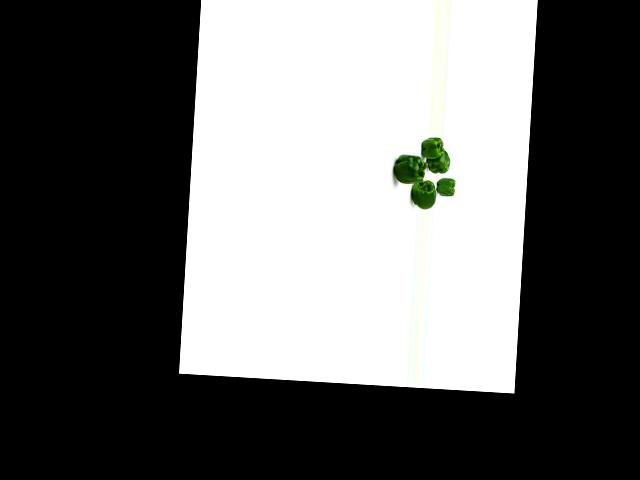bell_pepper: (418, 136, 443, 161)
